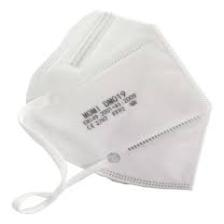mask: (11, 4, 215, 215)
